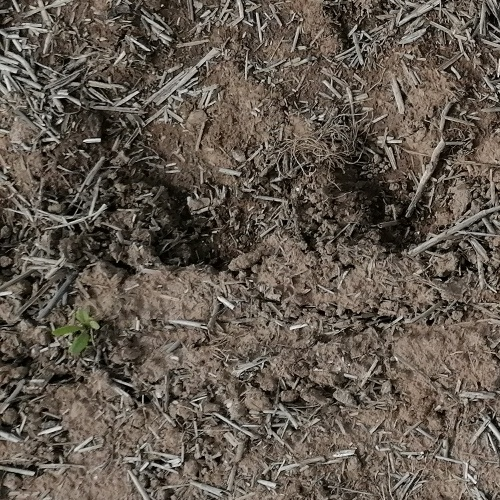beet: (50, 307, 101, 355)
